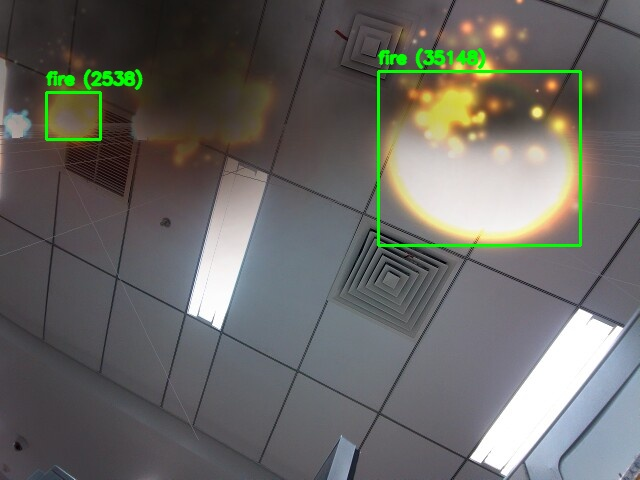fire: (378, 71, 580, 245), (46, 92, 100, 139)
